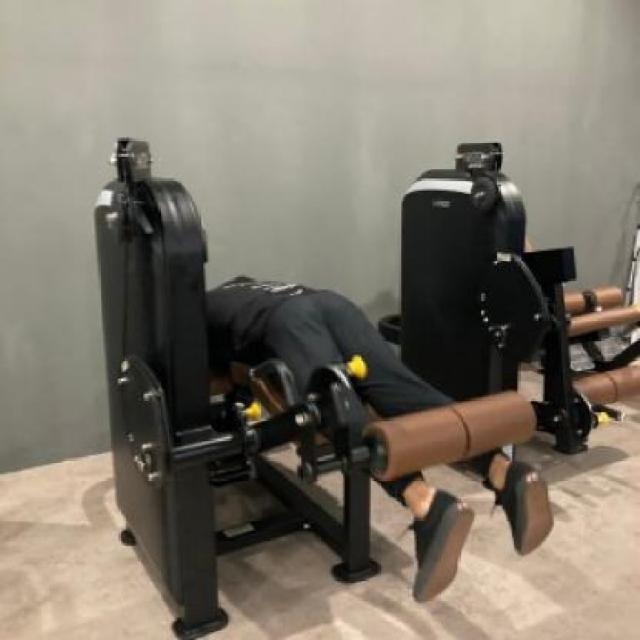reg curl machine: (79, 124, 558, 640)
